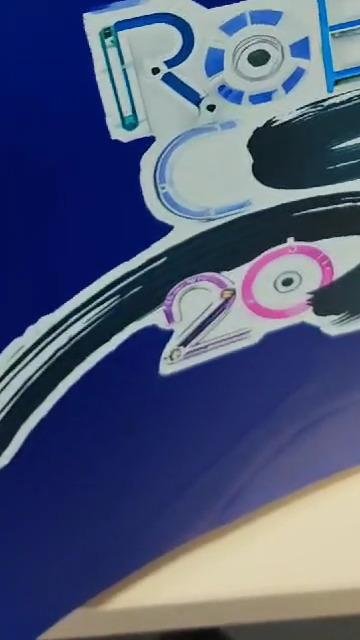B_R1: (3, 0, 360, 434)
